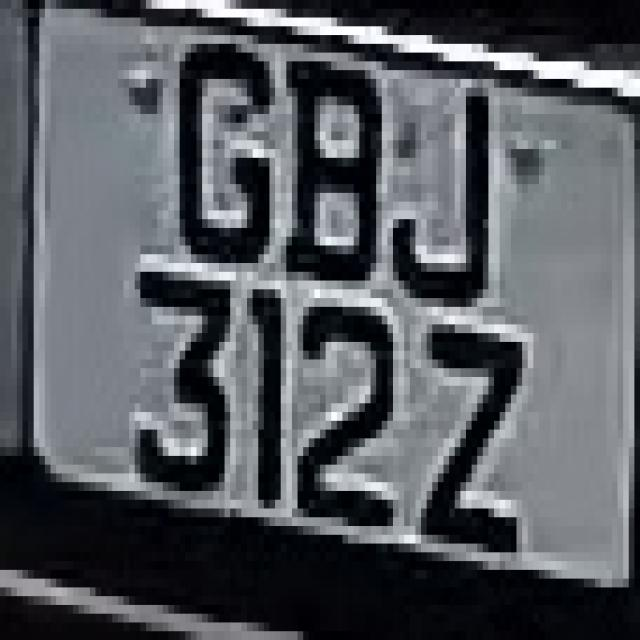1: (224, 281, 292, 526)
2: (286, 281, 404, 561)
3: (140, 228, 230, 500)
B: (286, 35, 393, 307)
G: (163, 18, 281, 298)
J: (410, 44, 511, 342)
Z: (410, 289, 528, 605)
